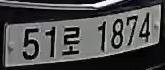1: (44, 25, 60, 59), (94, 19, 109, 54)
4: (139, 11, 153, 44)
5: (18, 26, 43, 61)
7: (125, 14, 139, 46)
8: (110, 18, 124, 50)
로: (60, 24, 82, 57)
